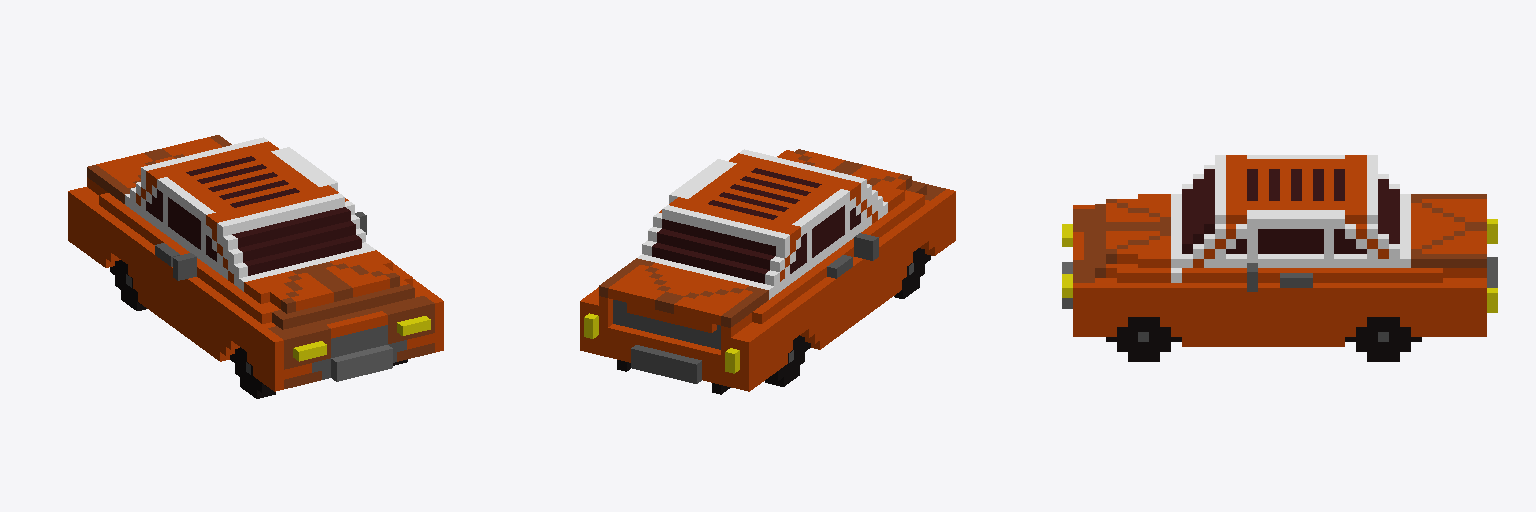
The picture shows the model from 3 angles: view 1: azimuth 30°, elevation 25°; view 2: azimuth 150°, elevation 25°; view 3: azimuth 270°, elevation 25°; orthographic projection.
Visible parts, largest first — view 1: 1964_Chevrolet_Chevy_II-Nova; view 2: 1964_Chevrolet_Chevy_II-Nova; view 3: 1964_Chevrolet_Chevy_II-Nova.
Part boxes in pixels (bbox=[...]): 1964_Chevrolet_Chevy_II-Nova: bbox=[68, 135, 443, 398]; 1964_Chevrolet_Chevy_II-Nova: bbox=[580, 149, 955, 394]; 1964_Chevrolet_Chevy_II-Nova: bbox=[1062, 155, 1497, 361].
Size of the model in its own units: 2 by 1.4 by 4.
Materials: 1 (1 with a texture image).